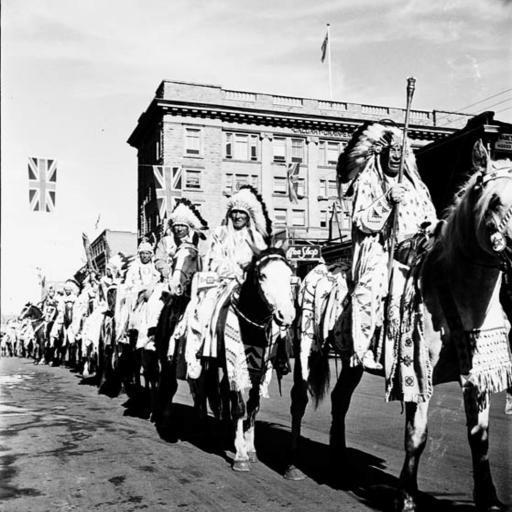horse: (14, 138, 512, 512)
